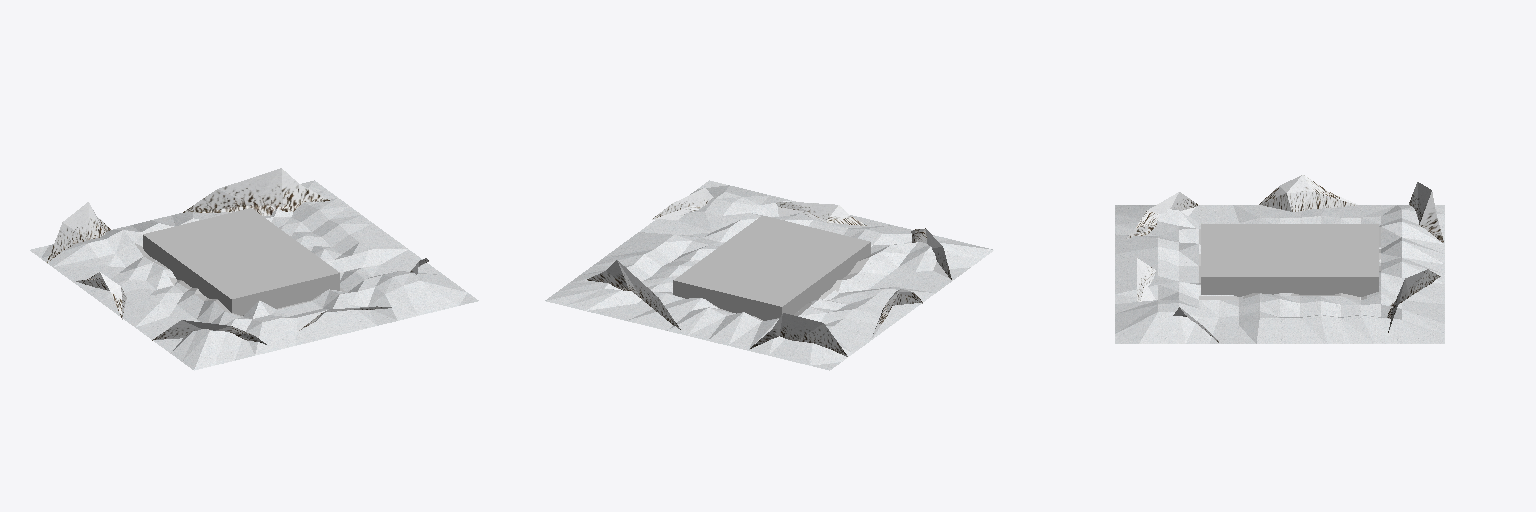
3 renders of one model, left to right at view 1: azimuth 30°, elevation 25°; view 2: azimuth 150°, elevation 25°; view 3: azimuth 270°, elevation 25°, orthographic.
Visible parts, largest first — view 1: SnowTube, SnowTubeCollisionBox; view 2: SnowTube, SnowTubeCollisionBox; view 3: SnowTube, SnowTubeCollisionBox.
Part boxes in pixels (left/top/right/bottom): SnowTube: left=30, top=168, right=478, bottom=370; SnowTubeCollisionBox: left=135, top=208, right=346, bottom=316; SnowTube: left=545, top=180, right=993, bottom=370; SnowTubeCollisionBox: left=673, top=215, right=876, bottom=320; SnowTube: left=1115, top=175, right=1444, bottom=343; SnowTubeCollisionBox: left=1199, top=224, right=1380, bottom=299.
Size of the model in its own units: 12380 by 1721 by 12155.
6 materials, 5 textured.